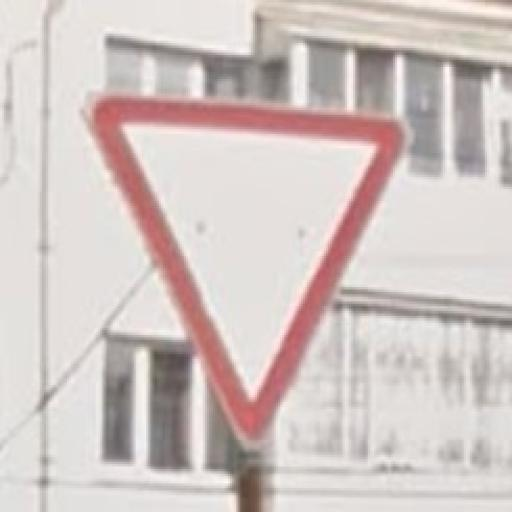traffic_sign: (85, 90, 411, 456)
